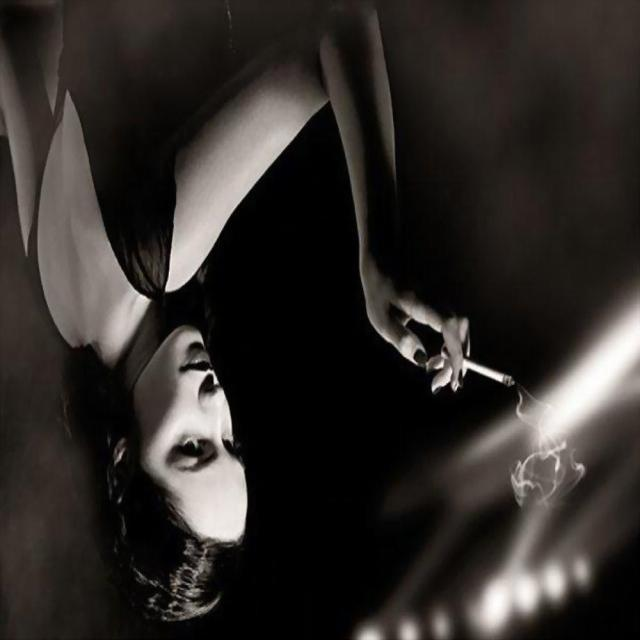cigarette: (444, 314, 554, 398)
